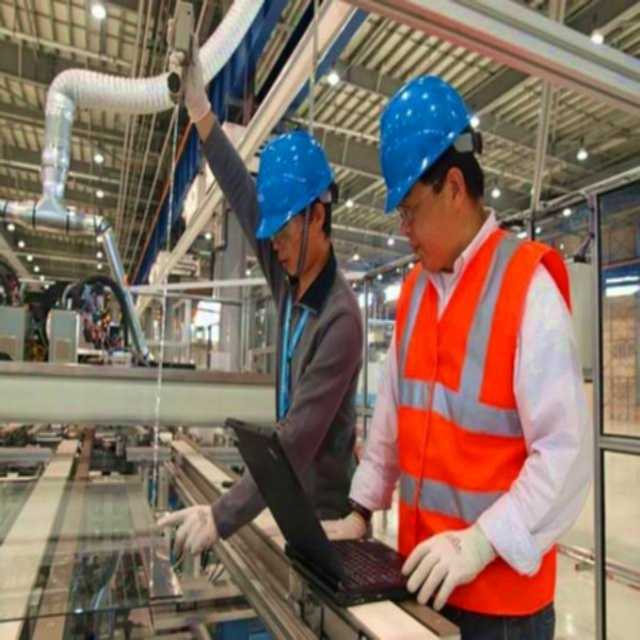Con_Casco: (378, 76, 478, 237), (254, 131, 334, 277)
Con_Chaleco: (392, 239, 564, 552)
